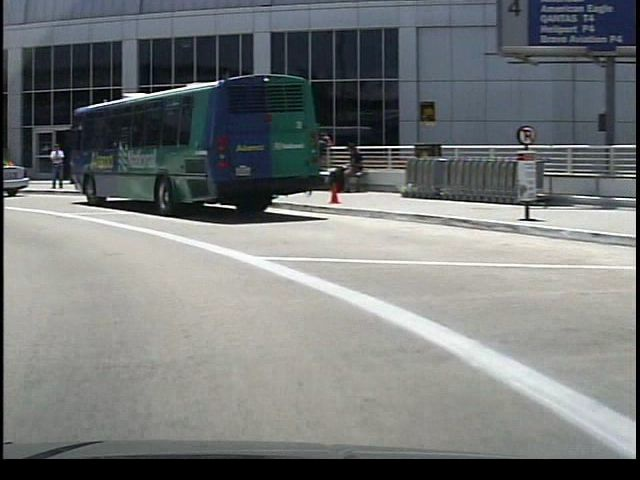person: (329, 140, 361, 198), (43, 141, 62, 193)
